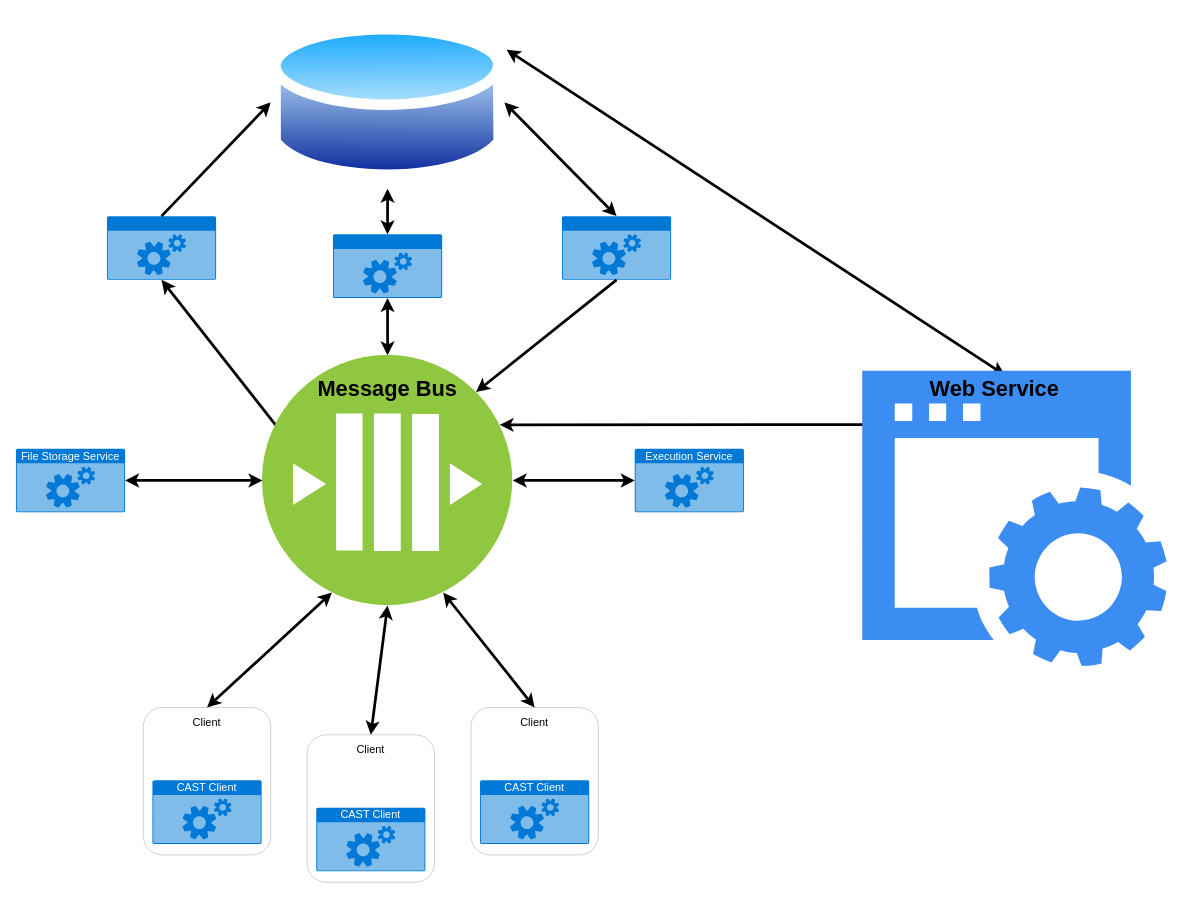
Image size: 1182x898. Some labels were removed from this diagram. Here are the shapes that lost their labels. From the top down, the centre of each, then its label:
At (387,101): "Database".
At (161,247): "Logger Service".
At (387,266): "Health Service".
At (616,247): "Scheduler Service".
